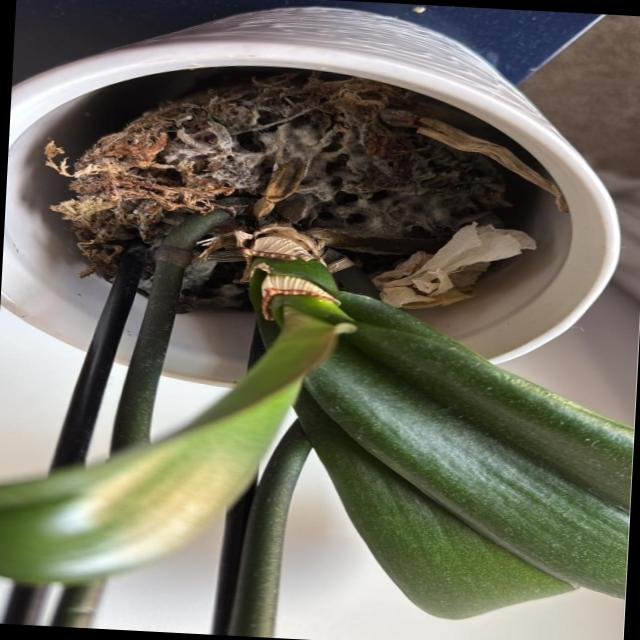leaf: (274, 262, 631, 597), (297, 394, 570, 619), (0, 391, 296, 584)
pot: (38, 0, 640, 406)
